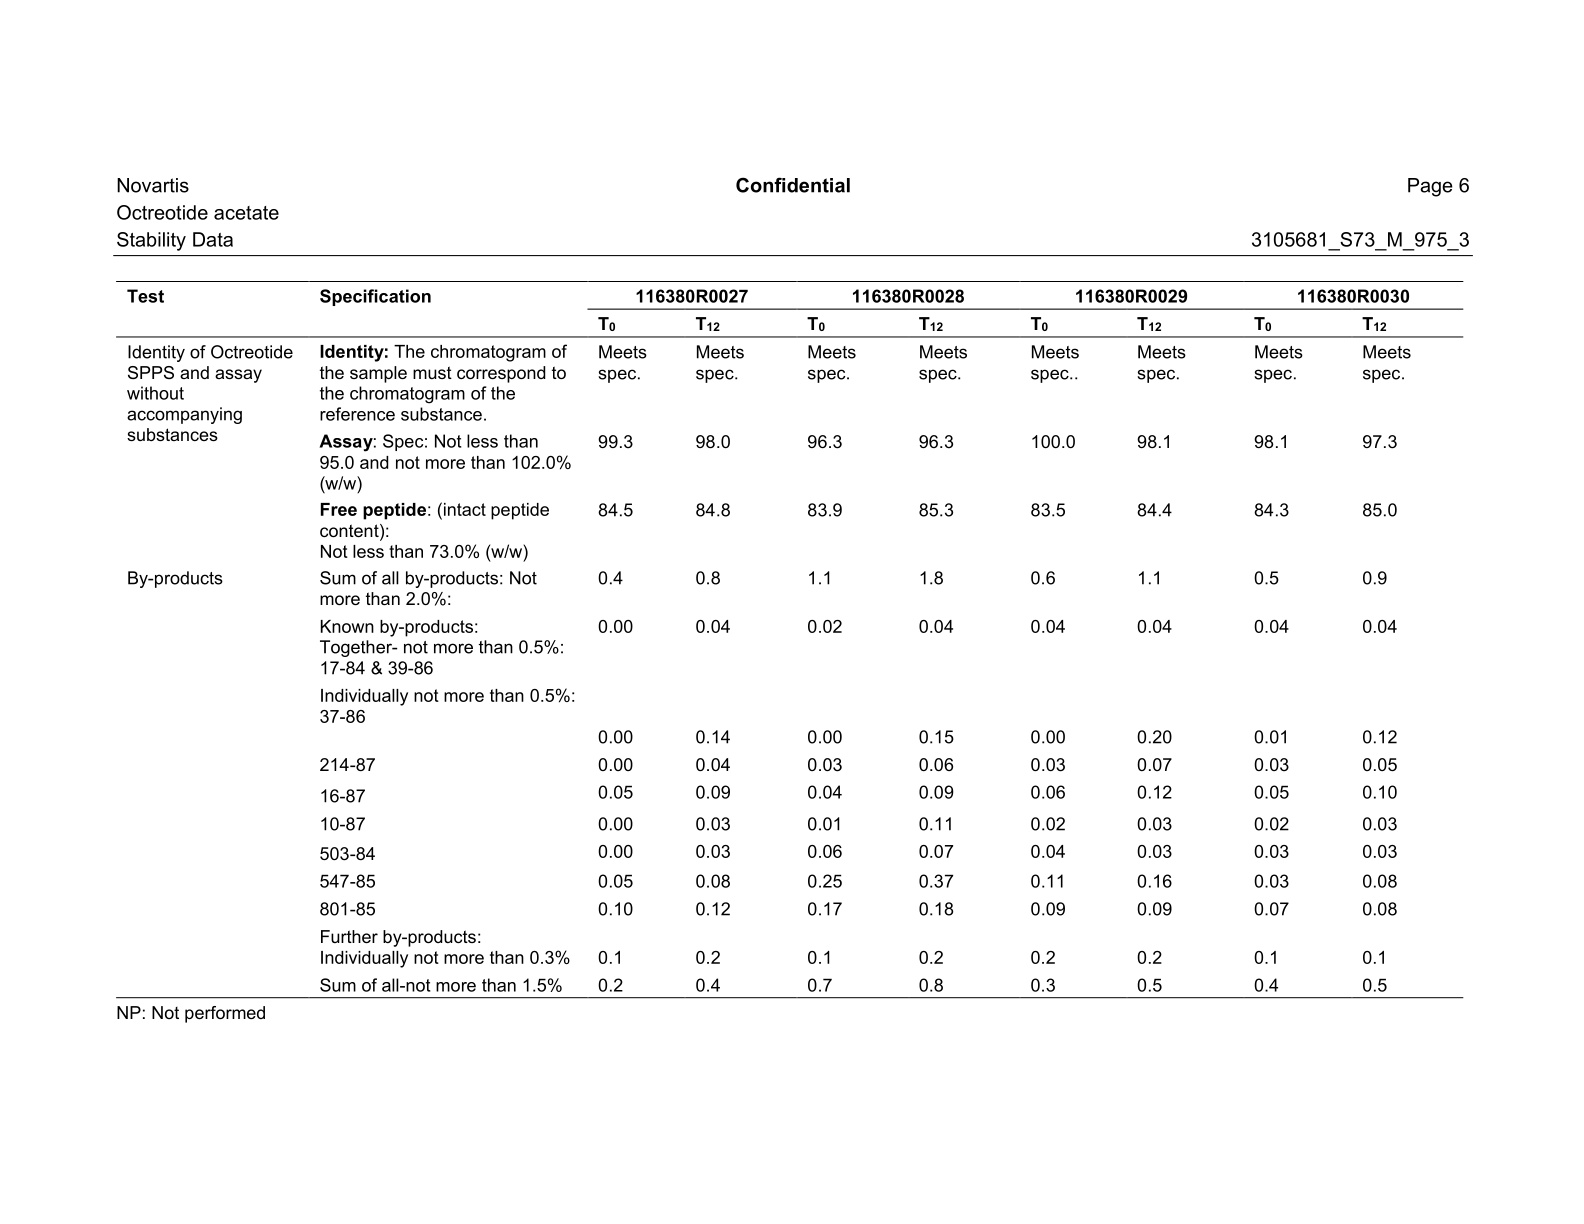partial_lined_merged_cells: (114, 280, 1464, 1000)
